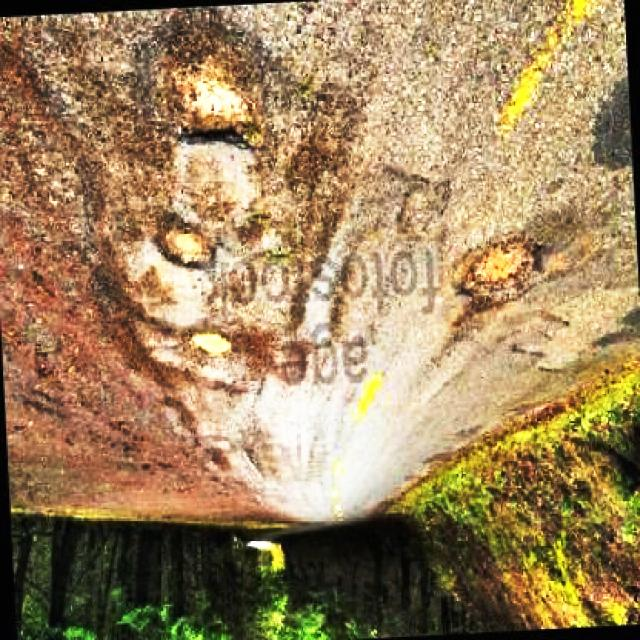pothole: (162, 11, 256, 157), (500, 283, 637, 374), (444, 229, 568, 308), (151, 201, 217, 274), (194, 329, 240, 360)
